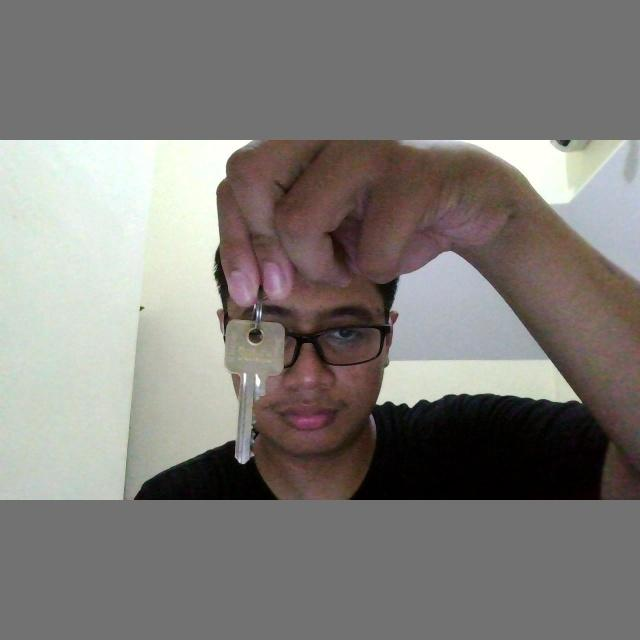Keys: (222, 314, 290, 466)
